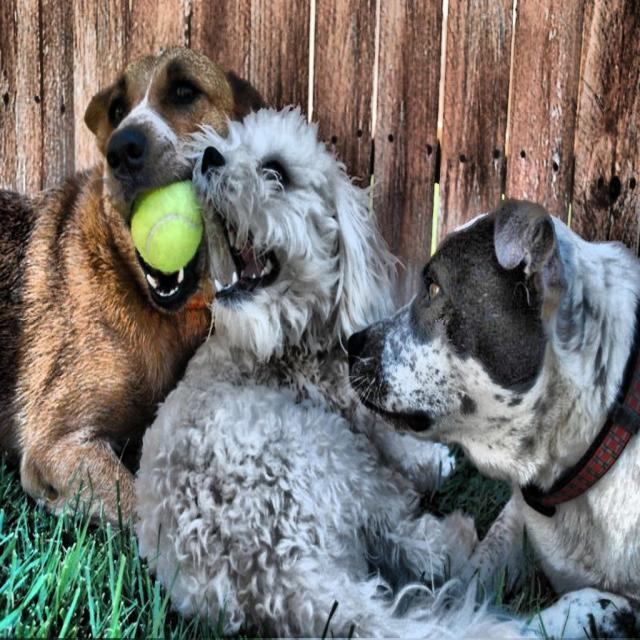tennis-ball: (127, 176, 206, 275)
